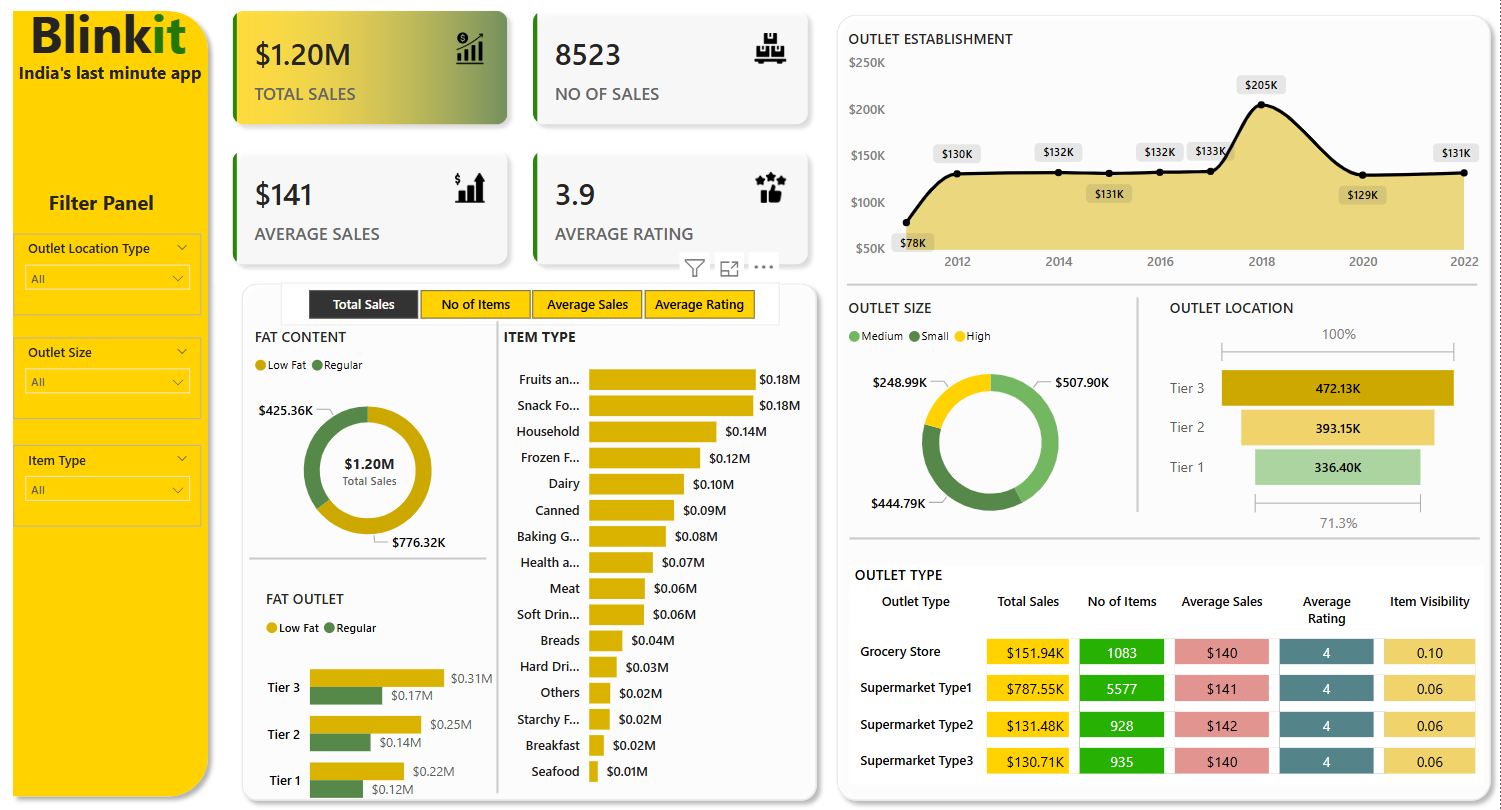

What the dashboard file says about the page in this screenshot:
{"tool":"powerbi","page":{"name":"Blinkit Dashboard","canvas":[1400,800],"ordinal":0},"visuals":[{"type":"shape","box":[6.3,33.9,199.7,750],"z":0},{"type":"textbox","box":[15.1,25.1,175.9,81.7],"z":1000},{"type":"textbox","box":[15.1,84.2,192.2,46.5],"z":2000},{"type":"cardVisual","fields":{"Data":["BlinkIT Grocery Data.Total Sales","BlinkIT Grocery Data.No of Items","BlinkIT Grocery Data.Average Sales","BlinkIT Grocery Data.Average Rating"]},"box":[202.6,25.5,570.3,270.2],"z":3000},{"type":"shape","box":[219.1,288.2,553.8,499.8],"z":4000},{"type":"donutChart","title":"FAT CONTENT","fields":{"Y":["BlinkIT Grocery Data.Total Sales"],"Category":["BlinkIT Grocery Data.Item Fat Content"]},"box":[235.6,336.2,220.6,223.6],"z":5000},{"type":"slicer","fields":{"Values":["Matrix.Matrix"]},"box":[264.2,295.7,465.3,40.5],"z":6000},{"type":"cardVisual","fields":{"Data":["BlinkIT Grocery Data.Total Sales"]},"box":[289.7,438.3,114.1,66],"z":7000},{"type":"clusteredBarChart","title":"FAT OUTLET","fields":{"Y":["BlinkIT Grocery Data.Total Sales"],"Category":["BlinkIT Grocery Data.Outlet Location Type"],"Series":["BlinkIT Grocery Data.Item Fat Content"]},"box":[245.5,581.2,221.3,218.8],"z":8000},{"type":"shape","box":[235.6,535.8,220.6,34.5],"z":9000},{"type":"shape","box":[456.3,331.7,19.5,439.8],"z":9001},{"type":"barChart","title":"ITEM TYPE","fields":{"Y":["BlinkIT Grocery Data.Total Sales"],"Category":["BlinkIT Grocery Data.Item Type"]},"box":[466.8,336.2,286.7,439.8],"z":9002},{"type":"shape","box":[772.9,37.5,627.4,750.4],"z":9003},{"type":"lineChart","title":"OUTLET ESTABLISHMENT","fields":{"Y":["BlinkIT Grocery Data.Total Sales"],"Category":["BlinkIT Grocery Data.Outlet Establishment Year"]},"box":[788.5,59.8,597.7,235.3],"z":9004},{"type":"shape","box":[792.3,281.1,587.6,34.3],"z":9005},{"type":"donutChart","title":"OUTLET SIZE","fields":{"Y":["BlinkIT Grocery Data.Total Sales"],"Category":["BlinkIT Grocery Data.Outlet Size"]},"box":[788.5,310.3,274.7,225.1],"z":9006},{"type":"shape","box":[1049.2,310.3,26.7,199.7],"z":9007},{"type":"funnel","title":"OUTLET LOCATION","fields":{"Y":["Sum(BlinkIT Grocery Data.Sales)"],"Category":["BlinkIT Grocery Data.Outlet Location Type"]},"box":[1087.4,310.3,279.8,225.1],"z":9008},{"type":"shape","box":[794.9,517.6,587.6,34.3],"z":9009},{"type":"pivotTable","title":"OUTLET TYPE","fields":{"Rows":["BlinkIT Grocery Data.Outlet Type"],"Values":["BlinkIT Grocery Data.Total Sales","BlinkIT Grocery Data.No of Items","BlinkIT Grocery Data.Average Sales","BlinkIT Grocery Data.Average Rating","Avg(BlinkIT Grocery Data.Item Visibility)"]},"box":[794.9,559.6,591.4,204.8],"z":9010},{"type":"slicer","fields":{"Values":["BlinkIT Grocery Data.Outlet Location Type"]},"box":[15.3,250.5,175.5,76.3],"z":9011},{"type":"slicer","fields":{"Values":["BlinkIT Grocery Data.Outlet Size"]},"box":[15.3,347.2,175.5,76.3],"z":9012},{"type":"slicer","fields":{"Values":["BlinkIT Grocery Data.Item Type"]},"box":[15.3,447.7,175.5,76.3],"z":9013},{"type":"textbox","box":[42.7,203.5,120.6,37.7],"z":9014}]}

Visuals, with their boxes on the page's 1400x800 design canvas (x1, y1, x2, y2). These are canvas units, not pixel positions in the 1501x810 screenshot, which may show the page scaled, cropped or inside an application window:
shape: 6:34:206:784
textbox: 15:25:191:107
textbox: 15:84:207:131
cardVisual - BlinkIT Grocery Data.Total Sales x BlinkIT Grocery Data.No of Items: 203:26:773:296
shape: 219:288:773:788
"FAT CONTENT" donutChart: 236:336:456:560
slicer - Matrix.Matrix: 264:296:730:336
cardVisual - BlinkIT Grocery Data.Total Sales: 290:438:404:504
"FAT OUTLET" clusteredBarChart: 246:581:467:800
shape: 236:536:456:570
shape: 456:332:476:772
"ITEM TYPE" barChart: 467:336:754:776
shape: 773:38:1400:788
"OUTLET ESTABLISHMENT" lineChart: 788:60:1386:295
shape: 792:281:1380:315
"OUTLET SIZE" donutChart: 788:310:1063:535
shape: 1049:310:1076:510
"OUTLET LOCATION" funnel: 1087:310:1367:535
shape: 795:518:1382:552
"OUTLET TYPE" pivotTable: 795:560:1386:764
slicer - BlinkIT Grocery Data.Outlet Location Type: 15:250:191:327
slicer - BlinkIT Grocery Data.Outlet Size: 15:347:191:424
slicer - BlinkIT Grocery Data.Item Type: 15:448:191:524
textbox: 43:204:163:241
